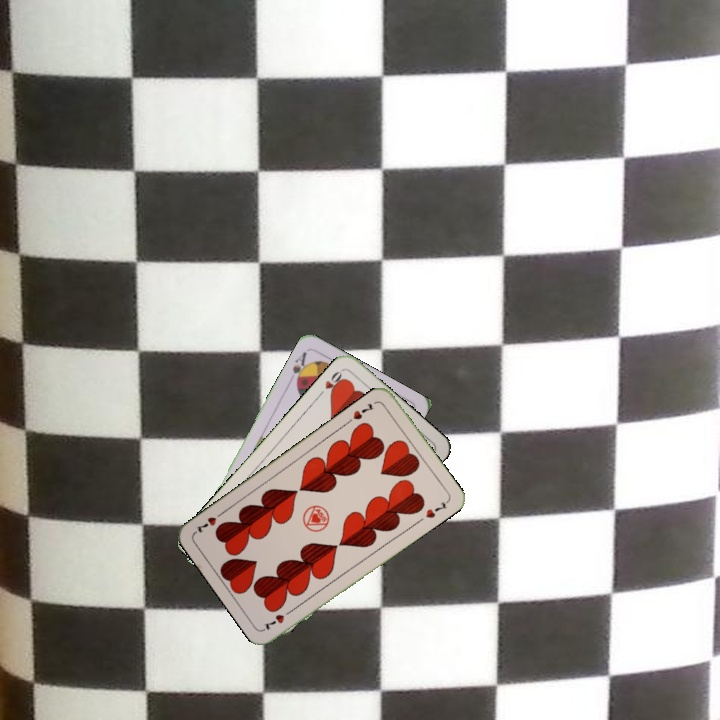H7: (260, 605, 296, 633), (349, 399, 377, 422)
HO: (314, 366, 347, 399)
SA: (288, 347, 312, 388)
